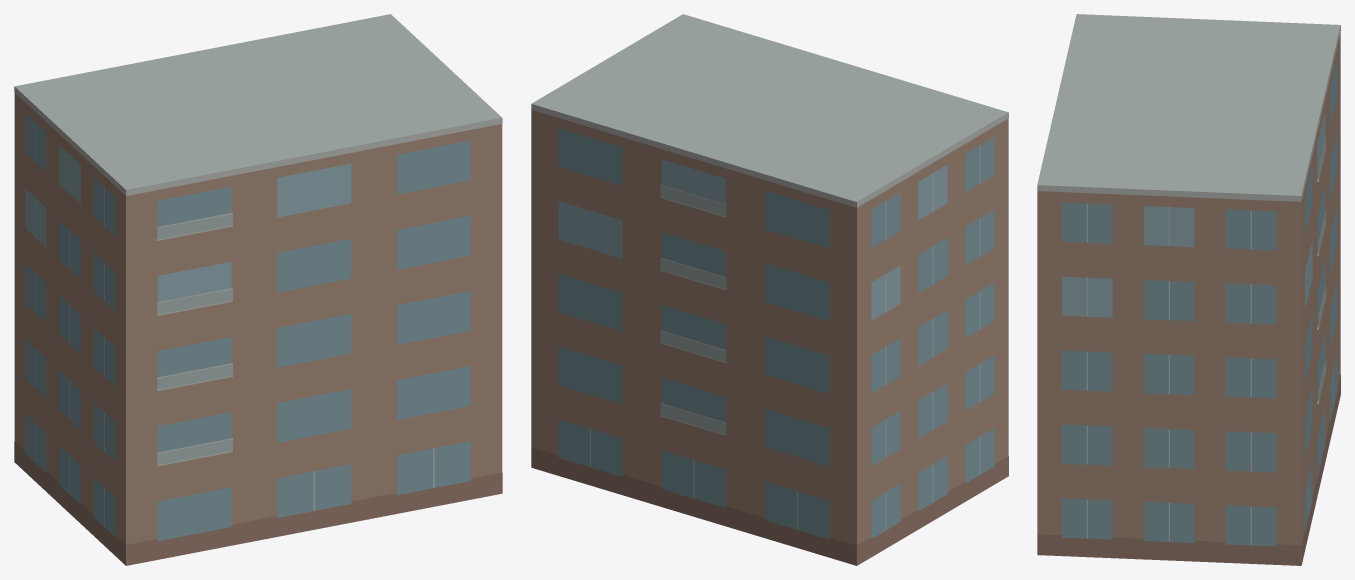
Rendered from residential-6ca95086-649d-47fe-a7d4-8bfe7460dffe.glb.
The picture shows the model from 3 angles, left to right: view 1: azimuth 30°, elevation 25°; view 2: azimuth 150°, elevation 25°; view 3: azimuth 270°, elevation 25°; orthographic projection. The views are drawn at different scales.
Visible parts, largest first — view 1: residential-6ca95086-649d-47fe-a7d4-8bfe7460dffe.tmp; view 2: residential-6ca95086-649d-47fe-a7d4-8bfe7460dffe.tmp; view 3: residential-6ca95086-649d-47fe-a7d4-8bfe7460dffe.tmp.
Part boxes in pixels (box(x1,y1,x2,y2)): residential-6ca95086-649d-47fe-a7d4-8bfe7460dffe.tmp: box(14, 14, 502, 565); residential-6ca95086-649d-47fe-a7d4-8bfe7460dffe.tmp: box(531, 14, 1008, 565); residential-6ca95086-649d-47fe-a7d4-8bfe7460dffe.tmp: box(1037, 14, 1340, 565).
Bounding box in the file's own units: 16.11 × 15.25 × 11.36.
